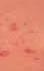plaque psoriasis: (23, 46, 37, 56), (0, 48, 9, 62), (10, 23, 19, 35)
